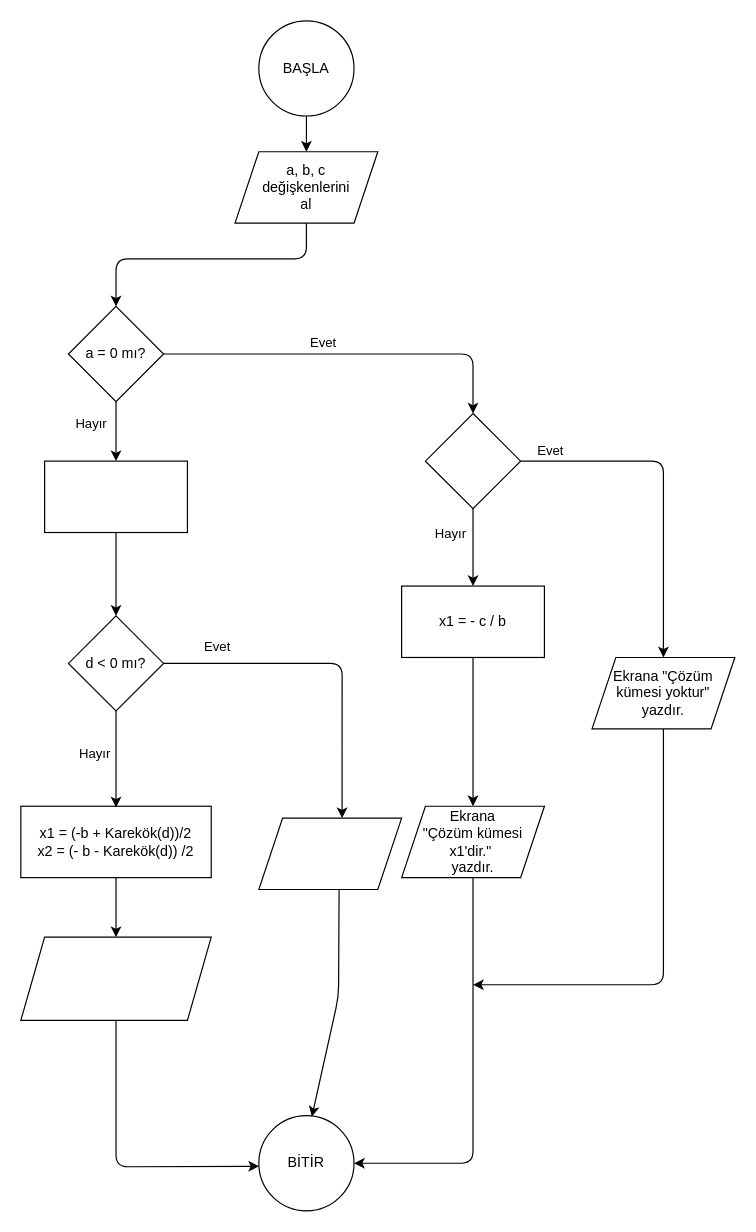
The diagram is 756 pixels wide and 1232 high, and some of its shapes have lost their labels. The shapes that lost their labels are listed below. From the top down, each one's centre as x and y in pixels, then its label:
pixel 472 460: b = 0 mı?
pixel 115 496: d = b^2 - 4ac
pixel 330 853: Ekrana "Çözüm kümesi kompleks sayılardır." yazdır.
pixel 115 978: Ekrana "Çözüm kümesi x1 ve x2dir." yazdır.
